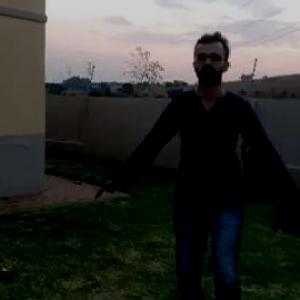land: (118, 38, 299, 288)
